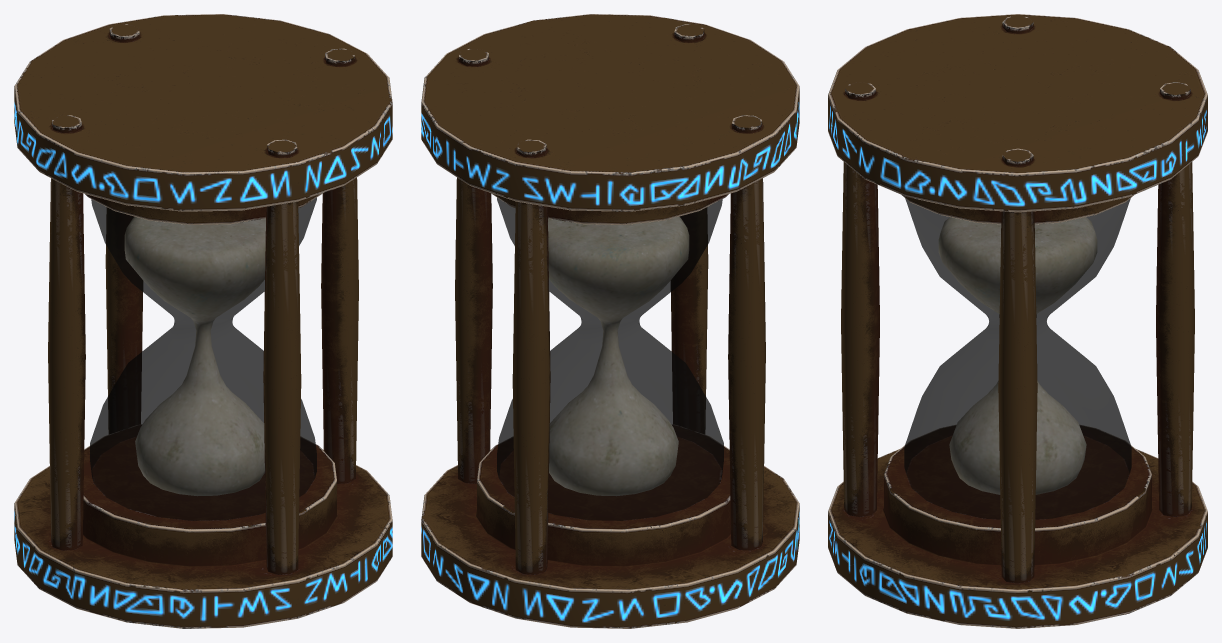
The model's file is hourglass.glb.
The picture shows the model from 3 angles, left to right: view 1: azimuth 30°, elevation 25°; view 2: azimuth 150°, elevation 25°; view 3: azimuth 270°, elevation 25°; orthographic projection.
Parts seen in each view (by area): view 1: hourglass_low; view 2: hourglass_low; view 3: hourglass_low.
Boxes of the visible parts, x1=… form: hourglass_low: x1=14, y1=14, x2=392, y2=628; hourglass_low: x1=421, y1=14, x2=799, y2=628; hourglass_low: x1=828, y1=14, x2=1207, y2=628.
Size of the model in its own units: 0.1669 by 0.2258 by 0.1669.
Materials: 2 (2 with a texture image).
